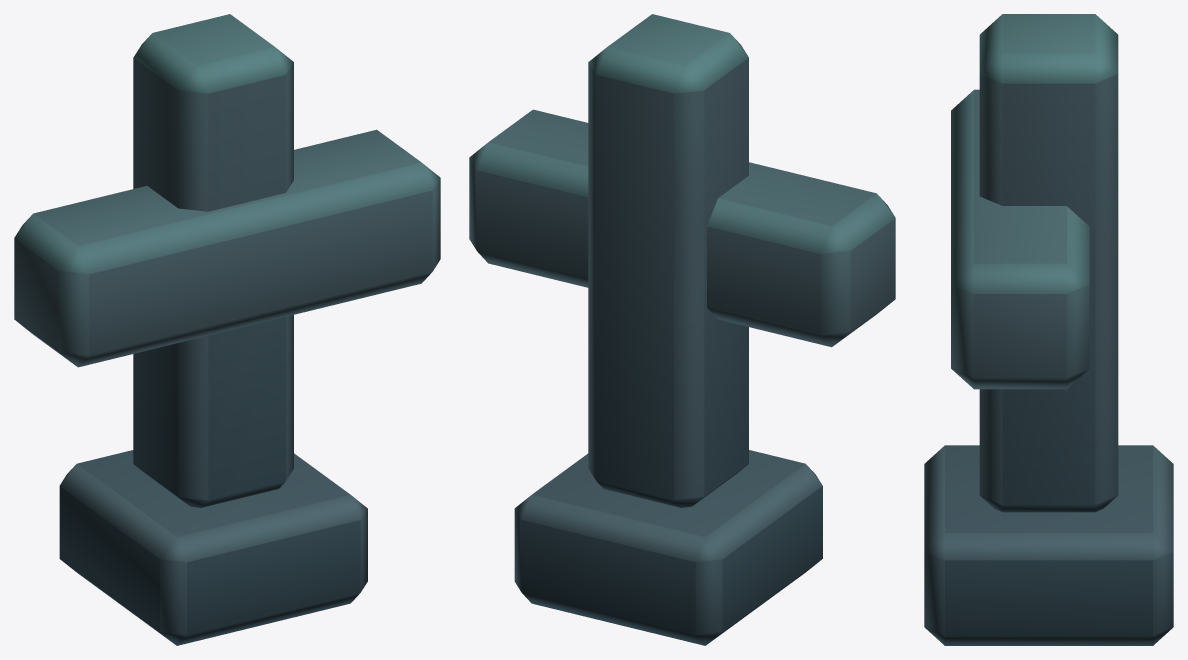
The model's file is cross_stone.fbx.
3 renders of one model, left to right at view 1: azimuth 30°, elevation 25°; view 2: azimuth 150°, elevation 25°; view 3: azimuth 270°, elevation 25°, orthographic. The views are drawn at different scales.
Visible parts, largest first — view 1: cross_stone; view 2: cross_stone; view 3: cross_stone.
Part boxes in pixels (left/top/right/bottom): cross_stone: left=14, top=14, right=440, bottom=645; cross_stone: left=469, top=14, right=895, bottom=645; cross_stone: left=924, top=14, right=1173, bottom=645.
Bounding box in the file's own units: 80 × 110 × 43.6.
